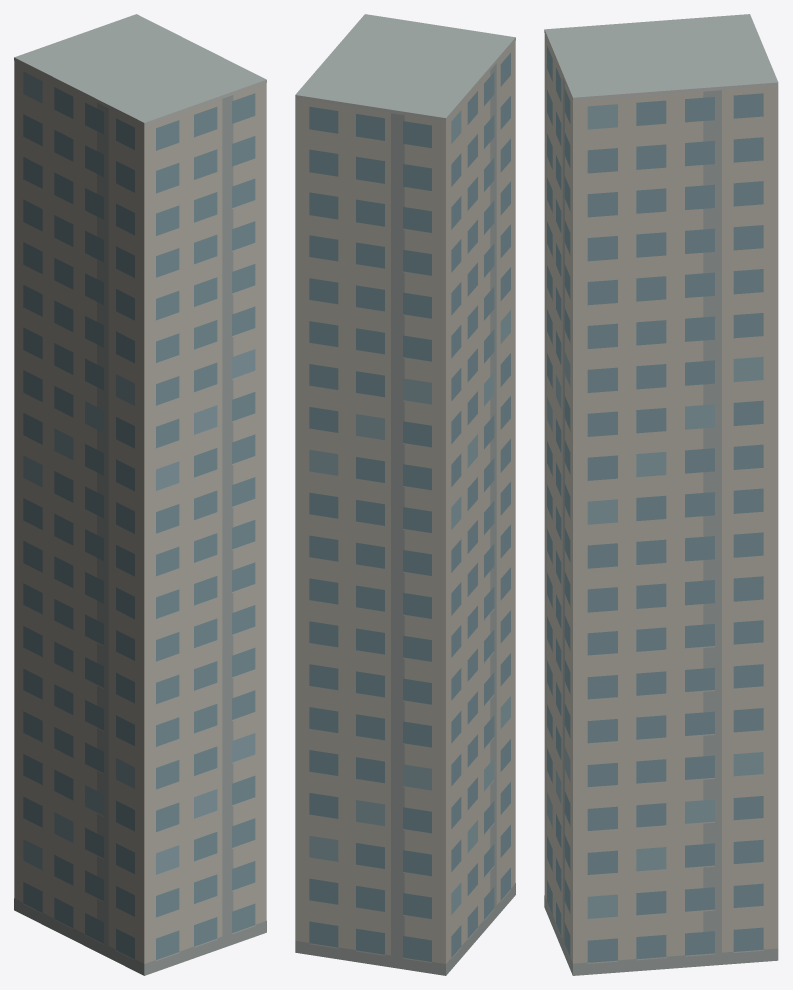
The model's file is residential-e609e1ad-7af3-41b7-b3fa-7b388a6802d1.glb.
3 views of the same model, side by side, from view 1: azimuth 30°, elevation 25°; view 2: azimuth 150°, elevation 25°; view 3: azimuth 270°, elevation 25° (orthographic). The views are drawn at different scales.
Visible parts, largest first — view 1: residential-e609e1ad-7af3-41b7-b3fa-7b388a6802d1.tmp; view 2: residential-e609e1ad-7af3-41b7-b3fa-7b388a6802d1.tmp; view 3: residential-e609e1ad-7af3-41b7-b3fa-7b388a6802d1.tmp.
Part boxes in pixels (left/top/right/bottom): residential-e609e1ad-7af3-41b7-b3fa-7b388a6802d1.tmp: left=14, top=14, right=266, bottom=975; residential-e609e1ad-7af3-41b7-b3fa-7b388a6802d1.tmp: left=295, top=14, right=515, bottom=975; residential-e609e1ad-7af3-41b7-b3fa-7b388a6802d1.tmp: left=544, top=14, right=778, bottom=975.
Size of the model in its own units: 12.28 by 60 by 14.49.
